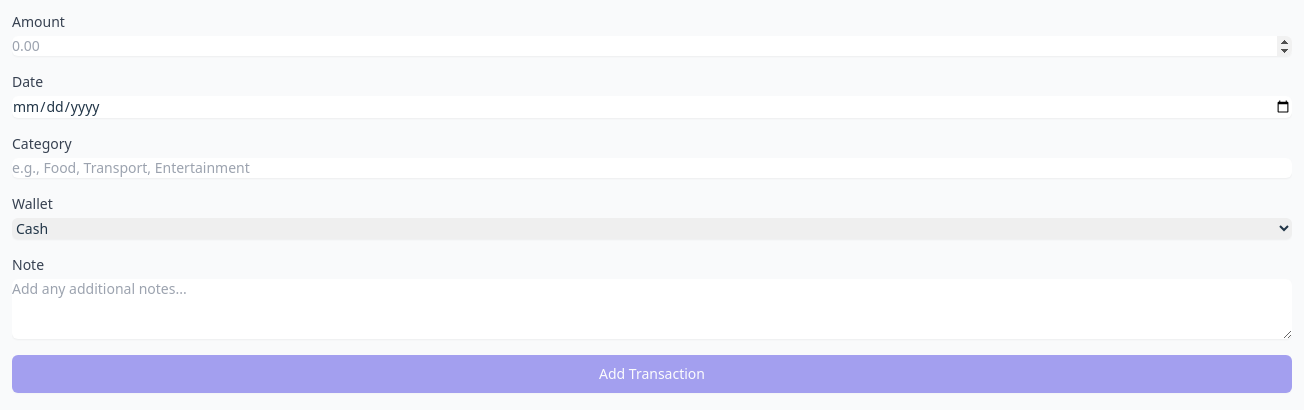
Test: TransactionForm › enables submit button when form is valid
Step 1. Type "10" into the number field labelled "Amount" → [652, 46], box [12,36,1292,56]
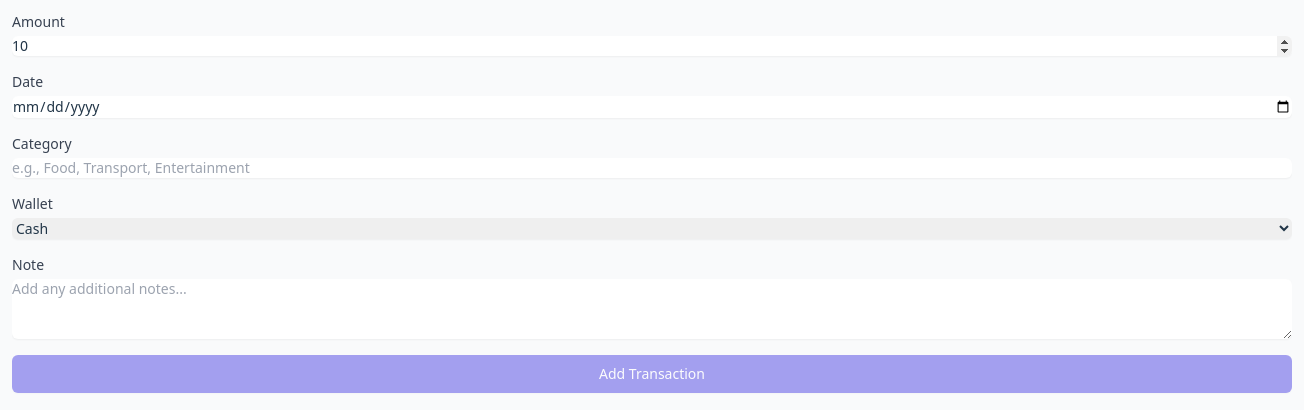
Step 2. Type "2024-06-01" into the date field labelled "Date" → [652, 107], box [12,96,1292,118]
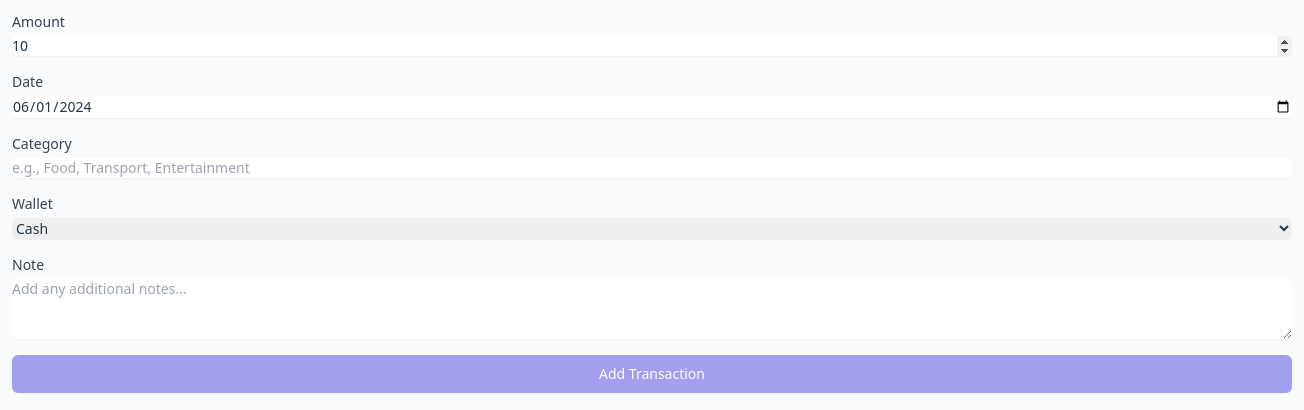
Step 3. Type "Food" into the field labelled "Category" → [652, 168], box [12,158,1292,178]
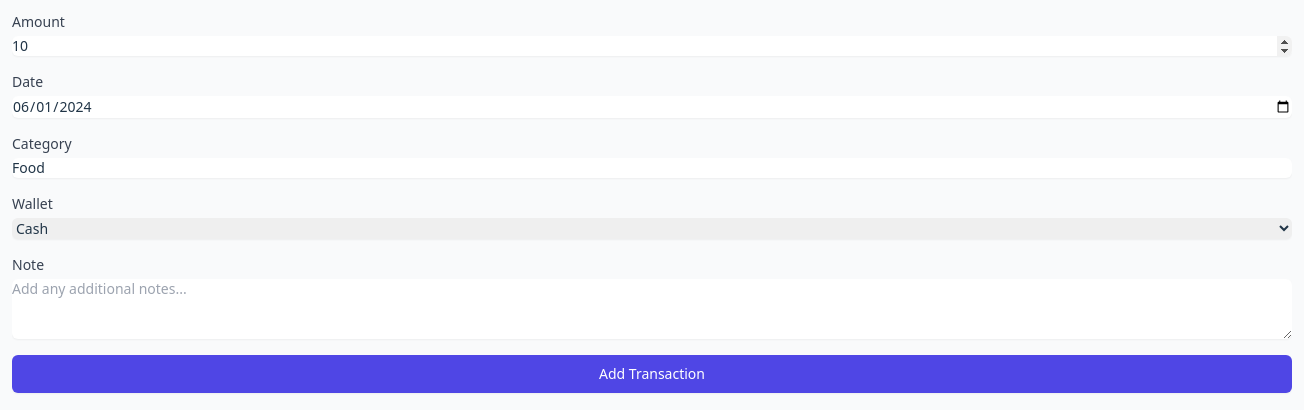
Expected: the button is enabled, [12,355,1292,393]
